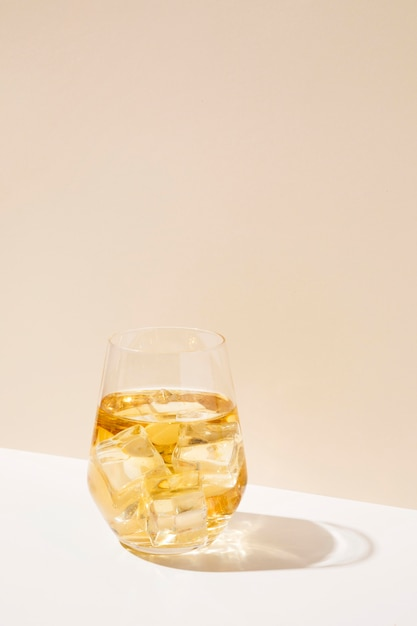alcohol: (86, 321, 248, 557)
